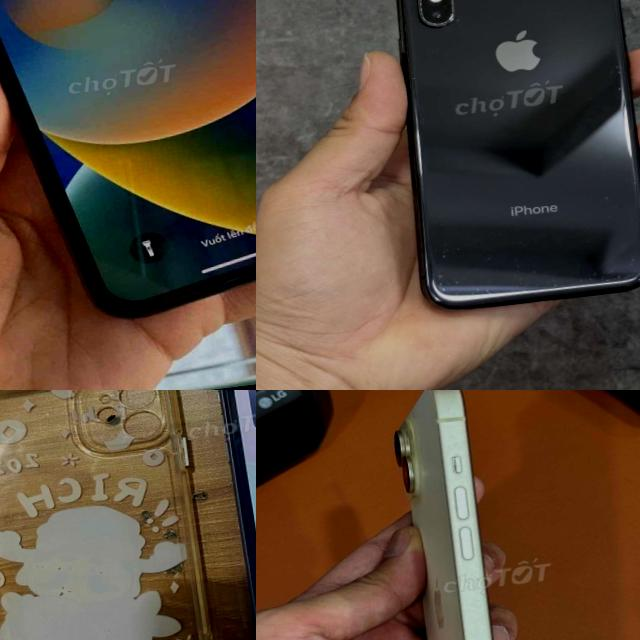gen_15: (353, 390, 542, 640)
gen_x_xs: (0, 0, 256, 335), (396, 0, 640, 307)
scratch: (480, 247, 532, 279), (564, 262, 630, 286), (436, 269, 472, 293), (432, 240, 460, 263), (617, 251, 640, 279), (504, 234, 532, 254), (604, 58, 624, 78), (442, 5, 464, 23), (598, 210, 616, 227), (404, 68, 418, 84), (626, 210, 638, 227), (482, 282, 499, 292), (599, 183, 609, 200), (551, 278, 563, 291), (517, 279, 531, 290), (614, 82, 624, 96)
